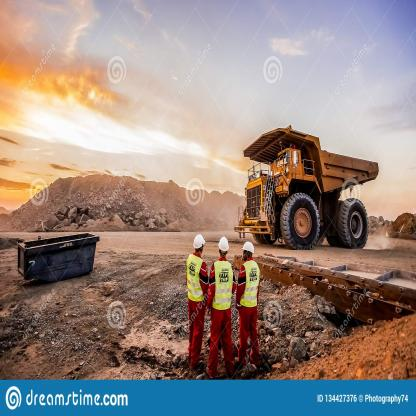dump_truck: (234, 122, 398, 258)
person: (202, 233, 236, 380), (176, 235, 210, 374), (233, 241, 262, 378)
